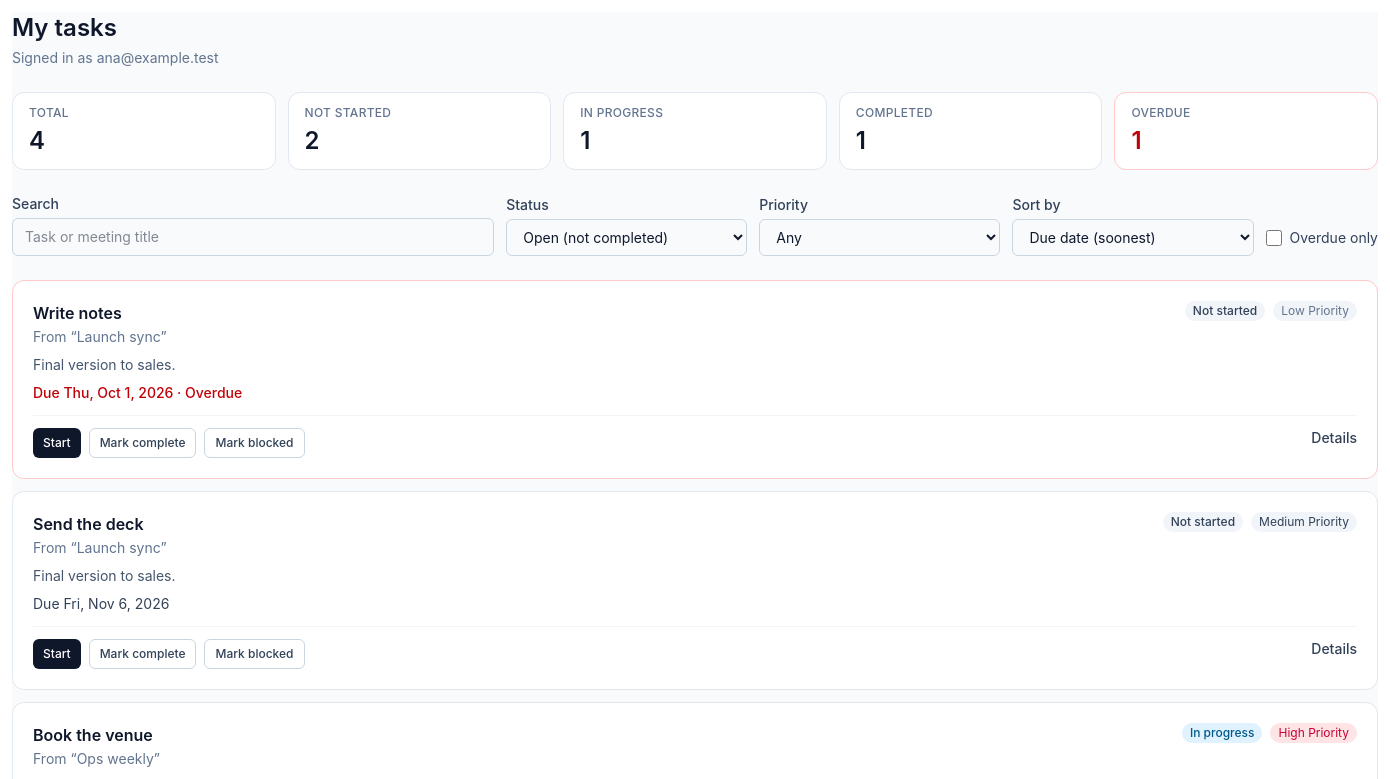
it: employee dashboard › updates a status once, then reloads from the server
Step 1. Click the button "Start" below "Fri, Nov 6, 2026" → [57, 654], box [33,639,81,669]
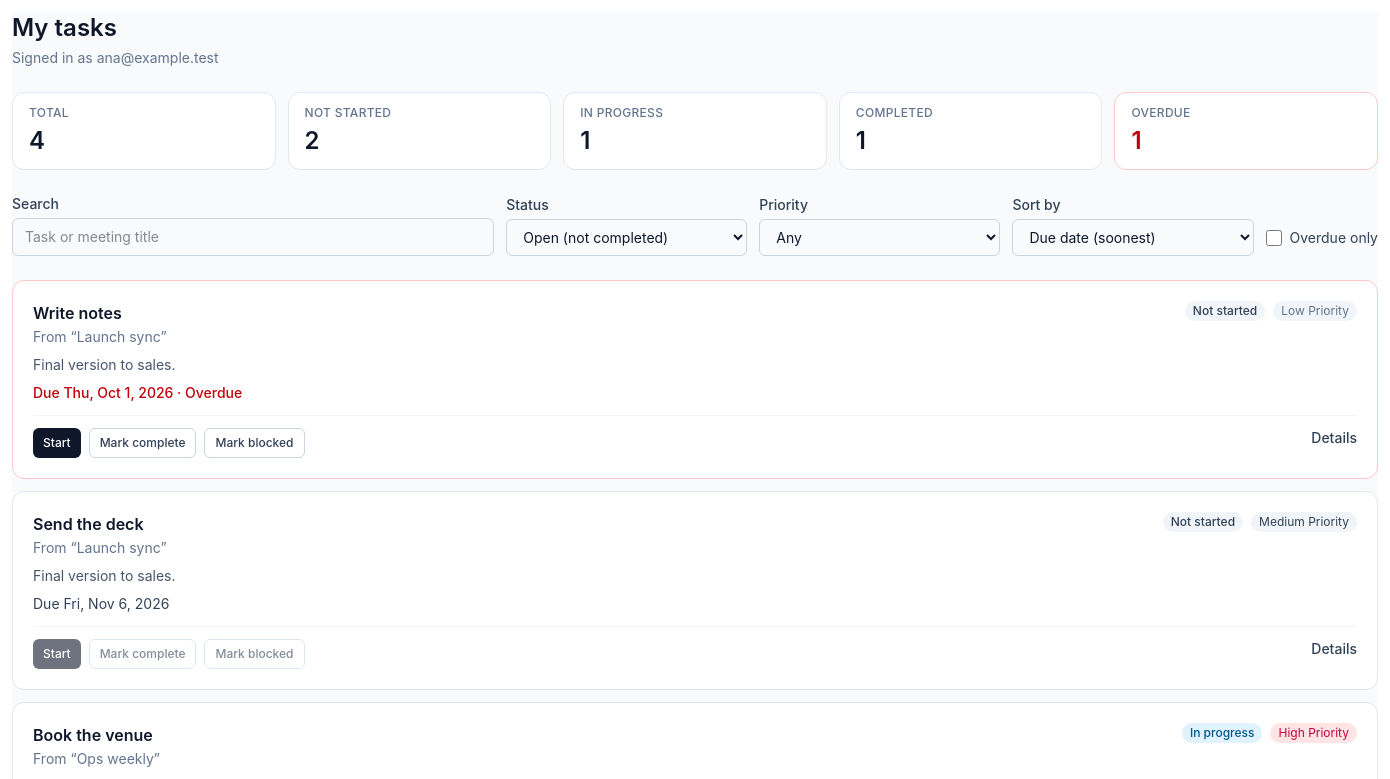
Step 2. Click the button "Start" below "Fri, Nov 6, 2026" → [57, 654], box [33,639,81,669]
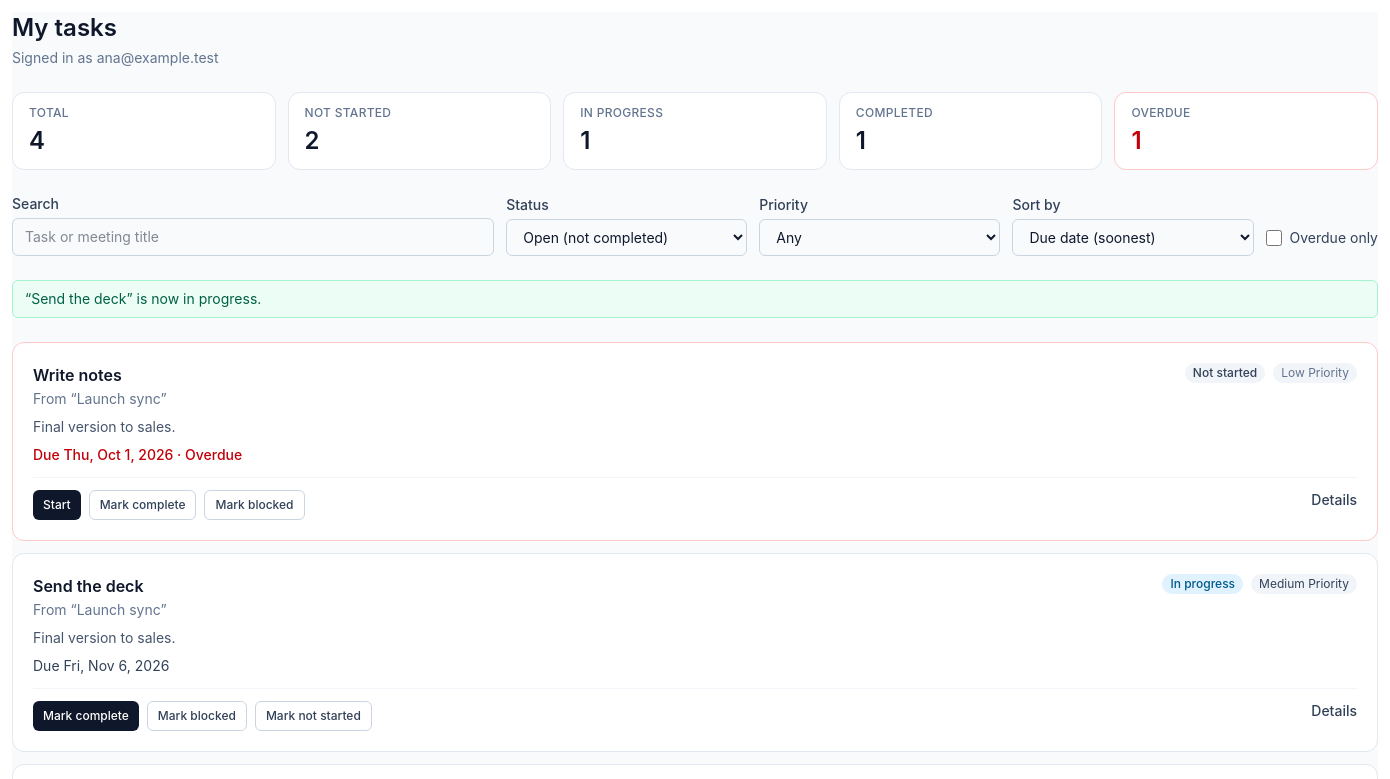
Expected: the text "Not started" next to "medium" is shown, [1162,574,1243,594]
Expected: the text "“Send the deck” is now in progress." is shown, [12,280,1378,318]
Expected: the text "In progress" next to "medium" is shown, [1170,576,1235,591]
